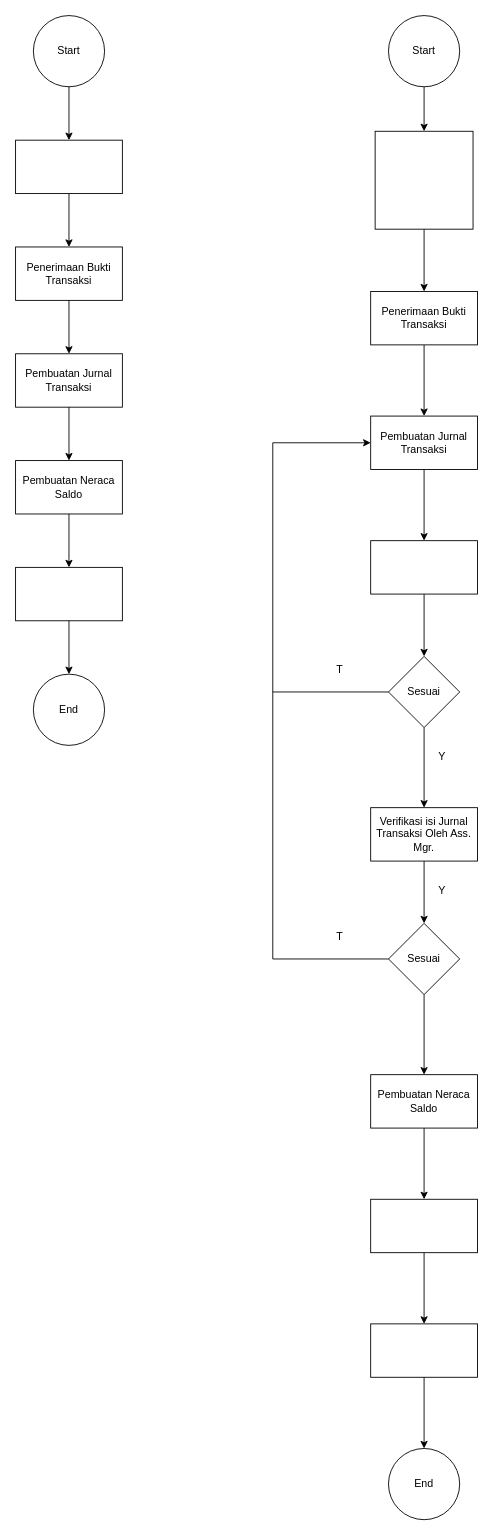
This 493x1535 diagram has some shape labels left out. The shapes that lost their labels are listed below. From the top down, each one's centre as x and y in pixels, then its label:
At (x=68, y=166): "Pembuatan Akun oleh Ass. HO approved by Mgr. HO".
At (x=423, y=179): "Pengiriman Bukti Transaksi".
At (x=423, y=567): "Verivikasi Jurnal oleh SPV".
At (x=68, y=593): "Pembuatan Laporan Keuangan".
At (x=423, y=1225): "Pembukuan Harga Produk Produksi, Penjualan dan Perincian Neraca".
At (x=423, y=1350): "Pembuatana Laporan Keuangan".
